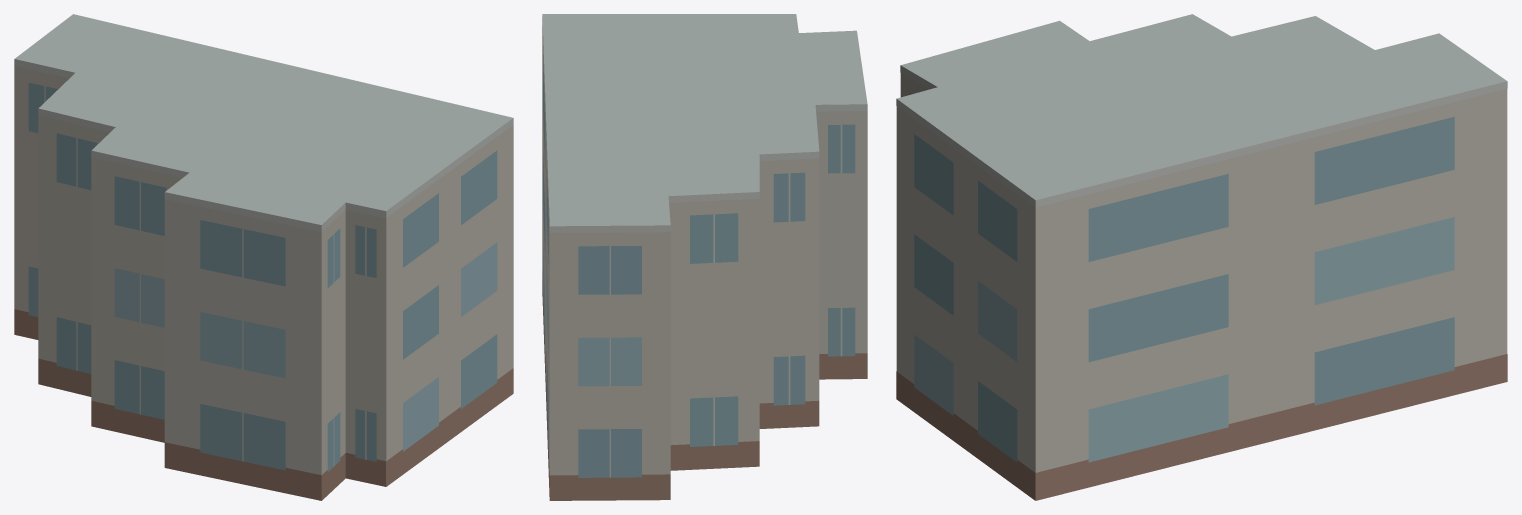
The model's file is survey-upis-33034421.glb.
3 views of the same model, side by side, from view 1: azimuth 30°, elevation 25°; view 2: azimuth 150°, elevation 25°; view 3: azimuth 270°, elevation 25° (orthographic). The views are drawn at different scales.
Visible parts, largest first — view 1: survey-upis-33034421.tmp; view 2: survey-upis-33034421.tmp; view 3: survey-upis-33034421.tmp.
Part boxes in pixels (bbox=[...]): survey-upis-33034421.tmp: bbox=[14, 14, 513, 500]; survey-upis-33034421.tmp: bbox=[542, 14, 867, 500]; survey-upis-33034421.tmp: bbox=[896, 14, 1507, 500].
Size of the model in its own units: 13.16 by 9.9 by 18.24.
